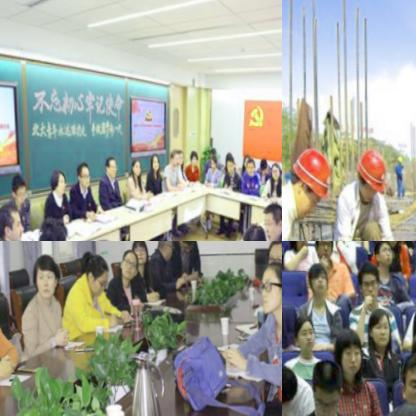head: (307, 353, 342, 416), (30, 246, 61, 298), (256, 255, 282, 317), (333, 327, 362, 380), (81, 248, 108, 298), (364, 301, 390, 349), (397, 350, 416, 406), (355, 262, 379, 303), (293, 309, 315, 353), (35, 212, 68, 241), (0, 197, 21, 239), (303, 261, 328, 296), (115, 244, 138, 282), (261, 199, 282, 239), (282, 362, 298, 411), (8, 171, 27, 207), (265, 241, 282, 274), (239, 221, 267, 241), (126, 241, 147, 265), (48, 166, 65, 195), (73, 158, 89, 188), (371, 241, 390, 263), (153, 241, 173, 260), (311, 241, 332, 258), (104, 153, 116, 176), (223, 151, 234, 175), (410, 329, 416, 372), (174, 241, 193, 254), (168, 147, 179, 166), (174, 145, 184, 165), (130, 155, 140, 175), (187, 146, 197, 165), (149, 153, 159, 172), (411, 300, 416, 337), (288, 241, 308, 250), (268, 161, 279, 177), (244, 155, 253, 174), (257, 153, 267, 170), (206, 150, 216, 167), (240, 148, 249, 165), (206, 142, 215, 155), (279, 151, 282, 167)
helmet: (284, 143, 335, 214), (353, 143, 388, 203)
